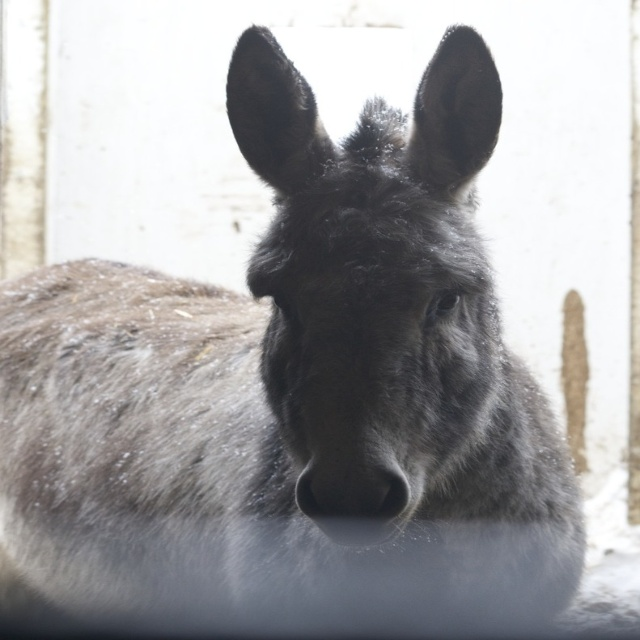Mule: (0, 22, 582, 640)
